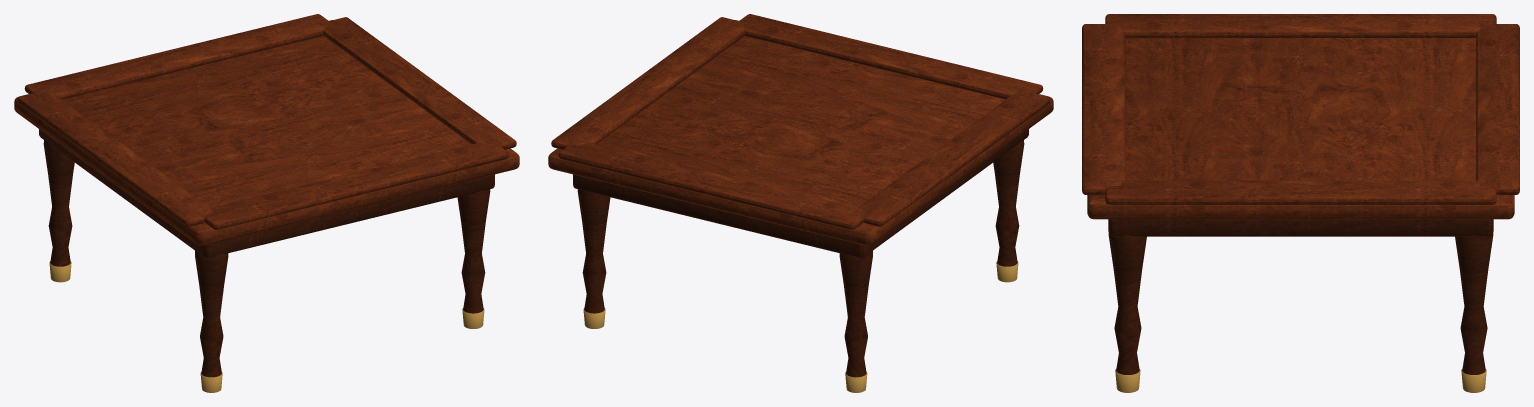
The model's file is okey_table_plain.glb.
3 views of the same model, side by side, from view 1: azimuth 30°, elevation 25°; view 2: azimuth 150°, elevation 25°; view 3: azimuth 270°, elevation 25° (orthographic). The views are drawn at different scales.
Parts seen in each view (by area): view 1: TableBed, TableRim_0, TableRim_2, TableRim_3, TableRim_1, TableSkirt, TurnedLeg_LB, TurnedLeg_RB, TurnedLeg_LF; view 2: TableBed, TableRim_2, TableRim_0, TableRim_3, TableRim_1, TableSkirt, TurnedLeg_LF, TurnedLeg_RF, TurnedLeg_LB; view 3: TableBed, TableRim_1, TableRim_3, TableRim_2, TableRim_0, TableSkirt, TurnedLeg_RB, TurnedLeg_RF, LegBrassFoot_RB, LegBrassFoot_RF.
Boxes of the visible parts, left/top/right/bottom form: TableBed: left=14, top=20, right=519, bottom=245; TableRim_0: left=203, top=142, right=509, bottom=229; TableRim_2: left=24, top=14, right=331, bottom=99; TableRim_3: left=17, top=90, right=213, bottom=226; TableRim_1: left=320, top=17, right=516, bottom=149; TableSkirt: left=39, top=129, right=494, bottom=258; TurnedLeg_LB: left=195, top=251, right=228, bottom=377; TurnedLeg_RB: left=457, top=189, right=490, bottom=313; TurnedLeg_LF: left=43, top=140, right=74, bottom=266; TableBed: left=548, top=20, right=1053, bottom=245; TableRim_2: left=558, top=142, right=866, bottom=229; TableRim_0: left=735, top=14, right=1043, bottom=99; TableRim_3: left=854, top=90, right=1050, bottom=226; TableRim_1: left=551, top=17, right=746, bottom=149; TableSkirt: left=573, top=129, right=1028, bottom=258; TurnedLeg_LF: left=839, top=251, right=872, bottom=377; TurnedLeg_RF: left=577, top=189, right=610, bottom=313; TurnedLeg_LB: left=993, top=140, right=1024, bottom=266; TableBed: left=1087, top=38, right=1514, bottom=219; TableRim_1: left=1105, top=180, right=1496, bottom=204; TableRim_3: left=1105, top=14, right=1496, bottom=37; TableRim_2: left=1476, top=24, right=1519, bottom=194; TableRim_0: left=1082, top=24, right=1125, bottom=194; TableSkirt: left=1108, top=219, right=1493, bottom=236; TurnedLeg_RB: left=1108, top=233, right=1146, bottom=374; TurnedLeg_RF: left=1455, top=233, right=1493, bottom=374; LegBrassFoot_RB: left=1115, top=369, right=1140, bottom=392; LegBrassFoot_RF: left=1461, top=369, right=1486, bottom=392.
Bounding box in the file's own units: 1.46 × 0.77 × 1.45.
3 materials, 2 textured.
